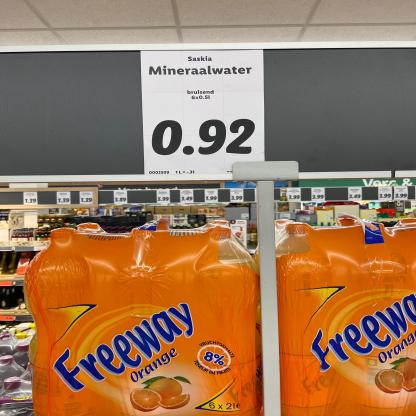prtg: (141, 51, 266, 176)
